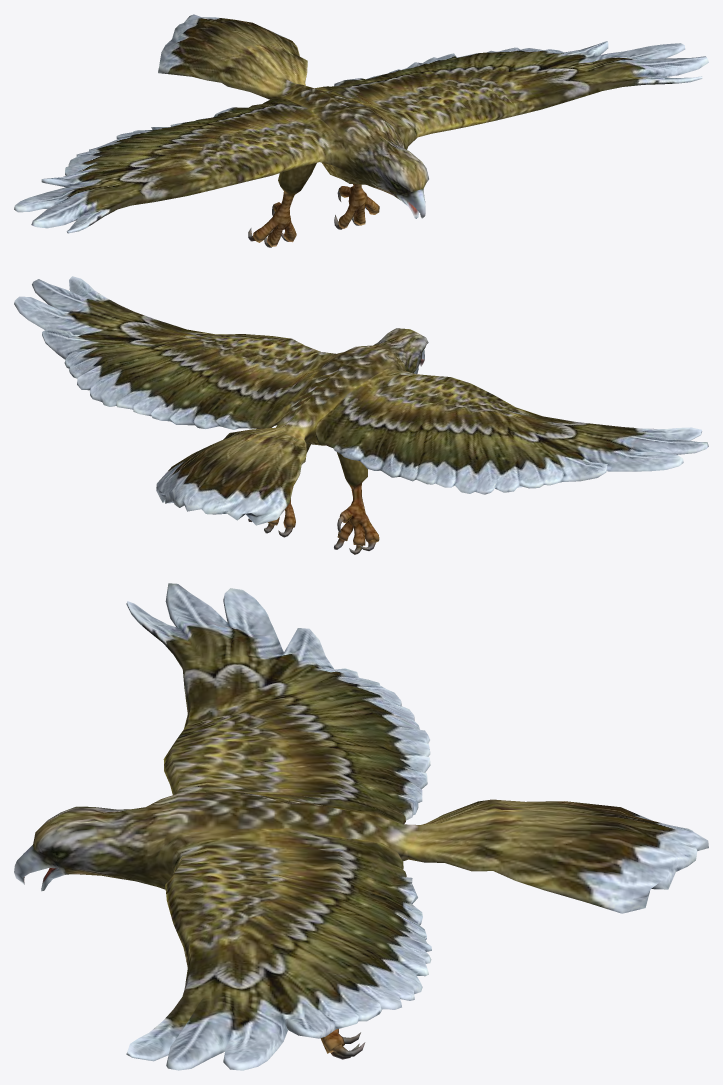
Rendered from 78-stymphalianbird.glb.
3 renders of one model, top to bottom at view 1: azimuth 30°, elevation 25°; view 2: azimuth 150°, elevation 25°; view 3: azimuth 270°, elevation 25°, orthographic. The views are drawn at different scales.
Bounding box in the file's own units: 6.51 × 1.42 × 3.96.
Materials: 1 (1 with a texture image).
